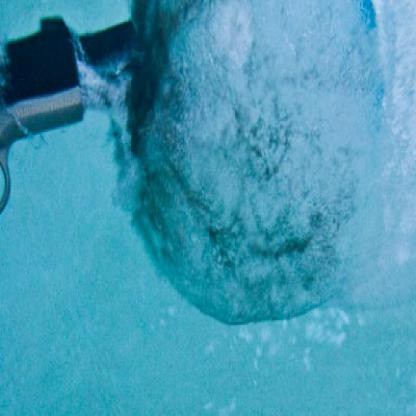gun: (0, 4, 89, 415)
